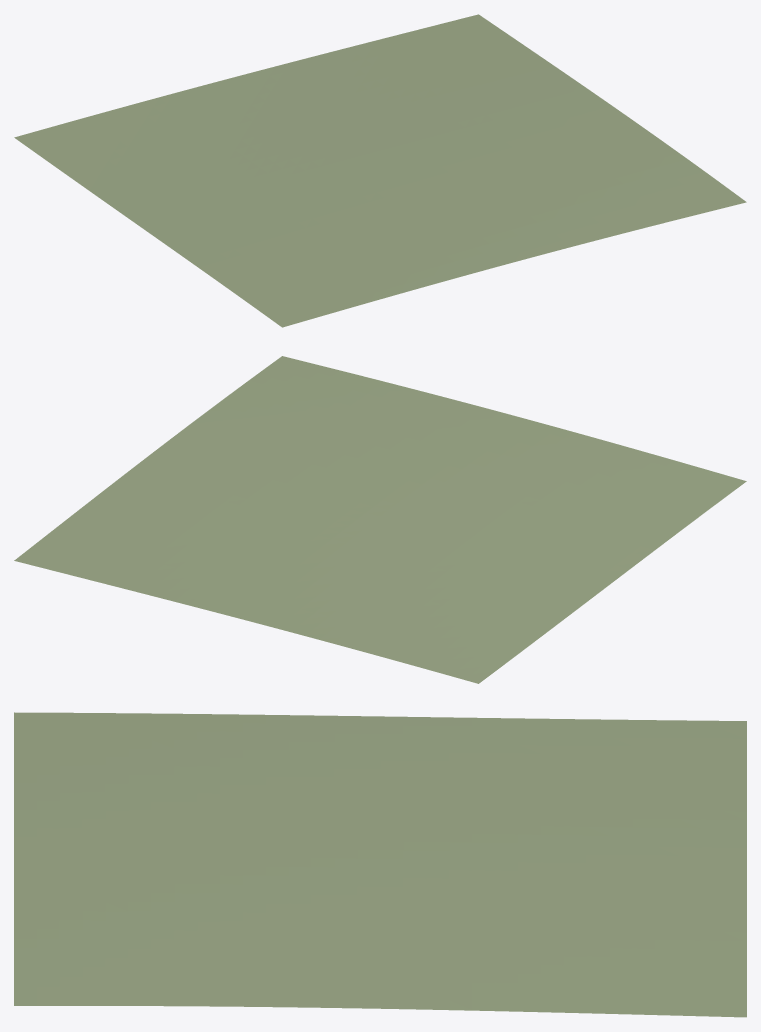
Rendered from expanse-26-2.glb.
3 views of the same model, one above another, from view 1: azimuth 30°, elevation 25°; view 2: azimuth 150°, elevation 25°; view 3: azimuth 270°, elevation 25° (orthographic). The views are drawn at different scales.
Visible parts, largest first — view 1: expanse-26-2; view 2: expanse-26-2; view 3: expanse-26-2.
Boxes of the visible parts, box(x1,y1,x2,y2) form: expanse-26-2: box(14, 14, 746, 327); expanse-26-2: box(14, 356, 746, 683); expanse-26-2: box(14, 712, 746, 1017).
Size of the model in its own units: 256 by 9.63 by 256.
